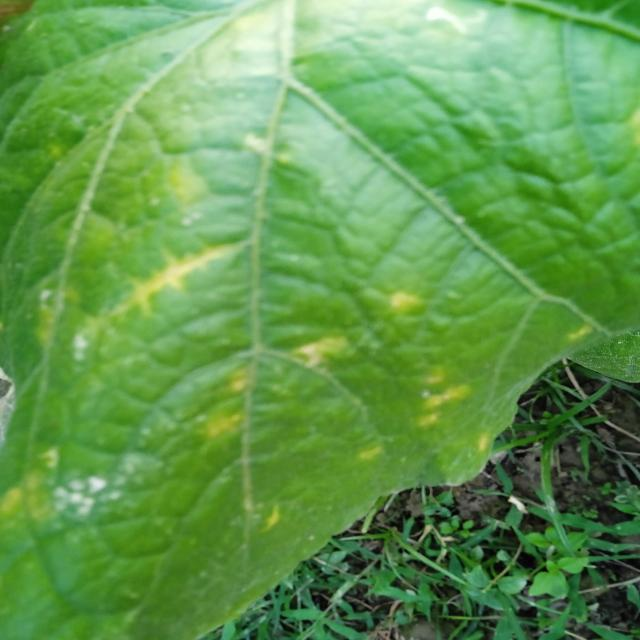cucumber_downy: (31, 66, 592, 532)
